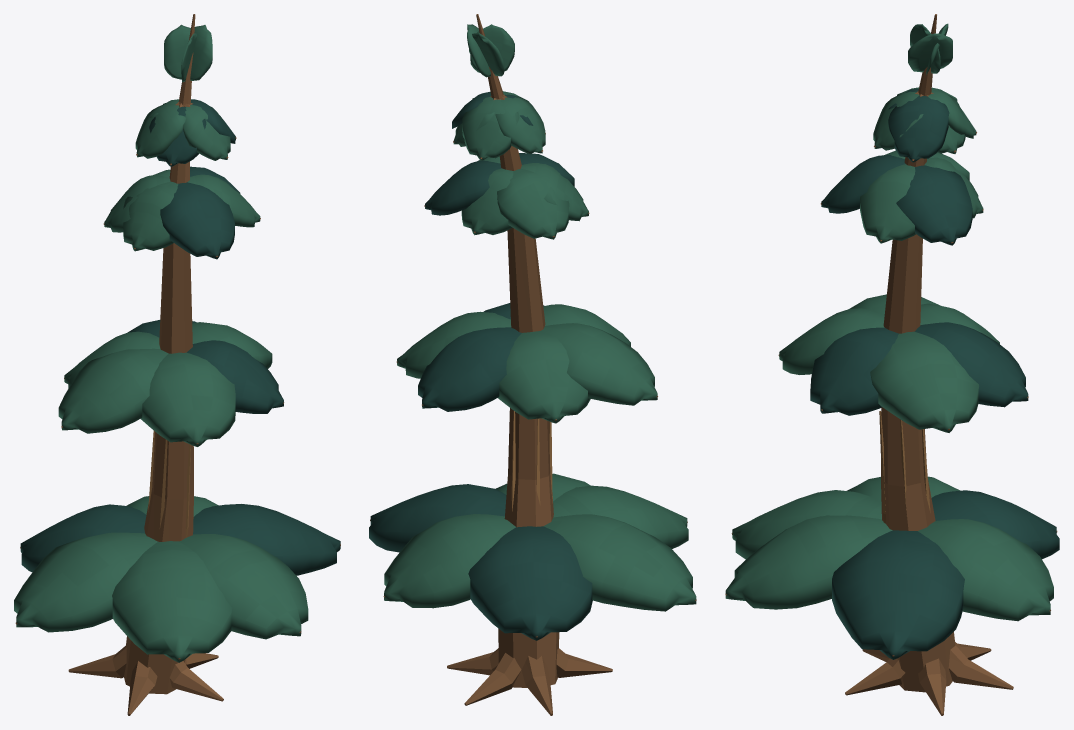
The model's file is pine_sparse.glb.
3 views of the same model, side by side, from view 1: azimuth 30°, elevation 25°; view 2: azimuth 150°, elevation 25°; view 3: azimuth 270°, elevation 25° (orthographic). The views are drawn at different scales.
Parts seen in each view (by area): view 1: pine_sparse; view 2: pine_sparse; view 3: pine_sparse.
Part boxes in pixels (left/top/right/bottom): pine_sparse: left=14, top=14, right=340, bottom=715; pine_sparse: left=369, top=14, right=696, bottom=715; pine_sparse: left=725, top=14, right=1059, bottom=715.
Bounding box in the file's own units: 2.71 × 5.23 × 2.3.
